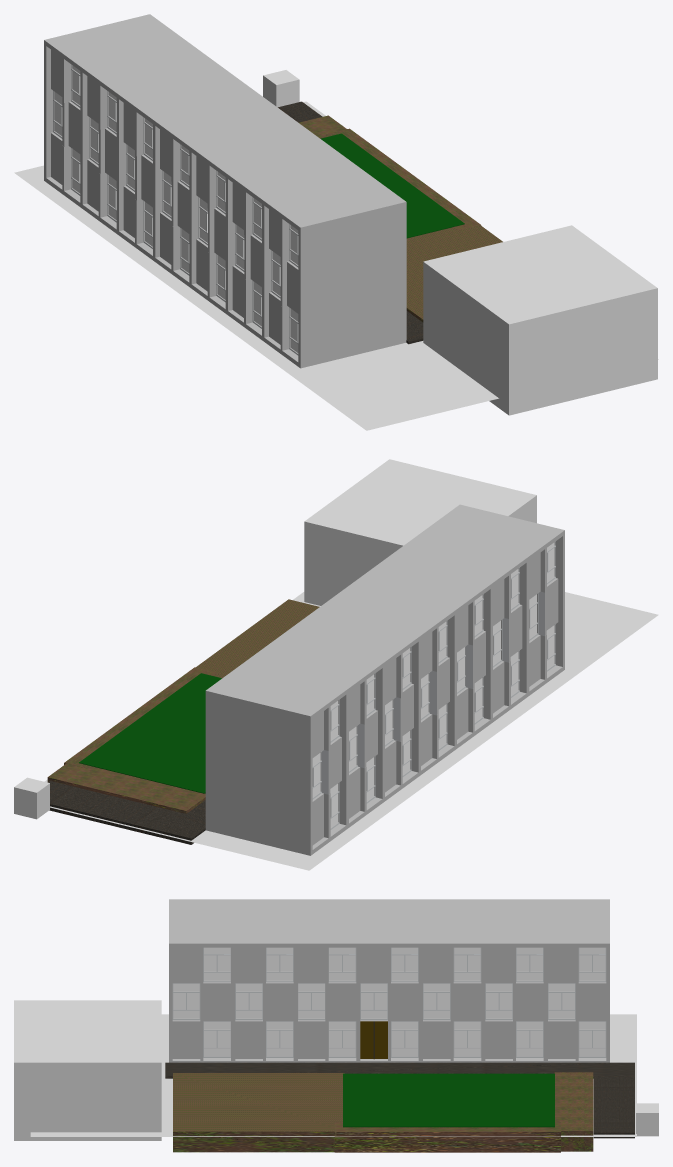
File: escuelaa.glb
3 renders of one model, top to bottom at view 1: azimuth 30°, elevation 25°; view 2: azimuth 150°, elevation 25°; view 3: azimuth 270°, elevation 25°, orthographic. The views are drawn at different scales.
Parts seen in each view (by area): view 1: Cube.001, Cube.002, Plane, Cube, Cube.007, Cube.008, Cube.003, Cube.006; view 2: Cube.001, Cube.002, Plane, Cube, Cube.004, Cube.006, Cube.007, Cube.008, Cube.003, Cube.005; view 3: Cube.001, Cube.002, Cube.007, Cube, Cube.008, Cube.005, Plane, Cube.006, Cube.004, Cube.003.
Part boxes in pixels (left/top/right/bottom): Cube.001: left=44, top=14, right=406, bottom=368; Cube.002: left=423, top=225, right=657, bottom=415; Plane: left=14, top=101, right=658, bottom=430; Cube: left=320, top=133, right=464, bottom=238; Cube.007: left=406, top=225, right=502, bottom=322; Cube.008: left=326, top=128, right=481, bottom=230; Cube.003: left=263, top=70, right=299, bottom=107; Cube.006: left=299, top=115, right=346, bottom=138; Cube.001: left=205, top=504, right=564, bottom=855; Cube.002: left=304, top=459, right=536, bottom=605; Plane: left=44, top=592, right=658, bottom=870; Cube: left=79, top=673, right=221, bottom=793; Cube.004: left=48, top=781, right=181, bottom=836; Cube.006: left=47, top=763, right=205, bottom=813; Cube.007: left=195, top=599, right=319, bottom=678; Cube.008: left=64, top=667, right=217, bottom=768; Cube.003: left=14, top=777, right=49, bottom=819; Cube.005: left=158, top=800, right=205, bottom=844; Cube.001: left=169, top=899, right=609, bottom=1062; Cube.002: left=14, top=1000, right=161, bottom=1140; Cube.007: left=173, top=1073, right=344, bottom=1152; Cube: left=343, top=1073, right=554, bottom=1127; Cube.008: left=334, top=1122, right=560, bottom=1152; Cube.005: left=165, top=1062, right=634, bottom=1078; Plane: left=30, top=1014, right=636, bottom=1136; Cube.006: left=554, top=1072, right=593, bottom=1151; Cube.004: left=593, top=1076, right=634, bottom=1138; Cube.003: left=636, top=1103, right=658, bottom=1136.
Bounding box in the file's own units: 25.33 × 13.22 × 56.29.
Materials: 9 (3 with a texture image).
